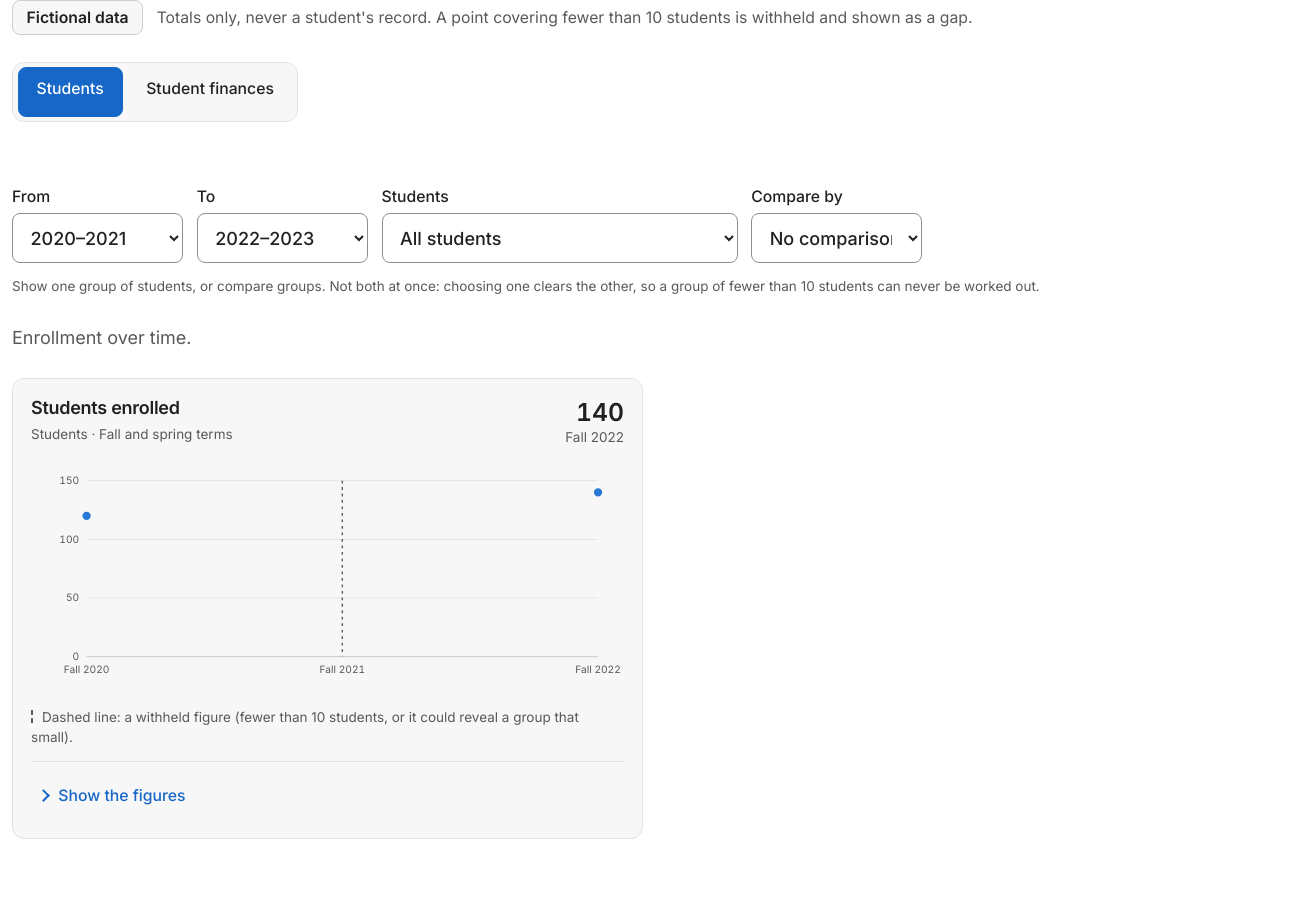
it: DataPage filter bar › splits a chart by the comparison, and a group click narrows to it
This screenshot has width=1292, height=900.
Expected: the picture named "Students enrolled" is shown, [31,461,624,693]
Select "Gender" in the dropdown labelled "Compare by" at [837, 238], box [751,213,922,263]
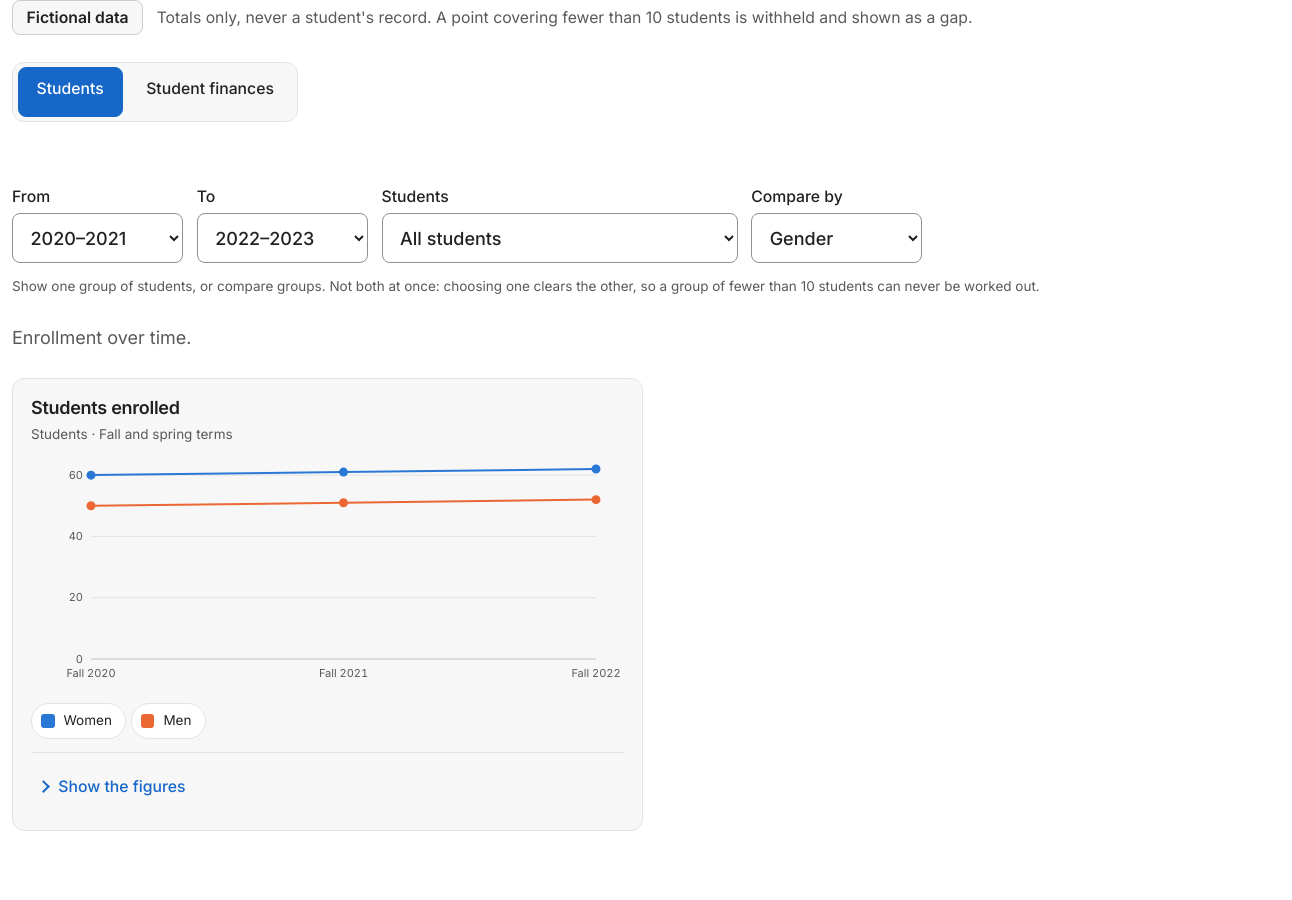
Click the button with aria-label "Men:" at [168, 721], box [131,703,206,739]
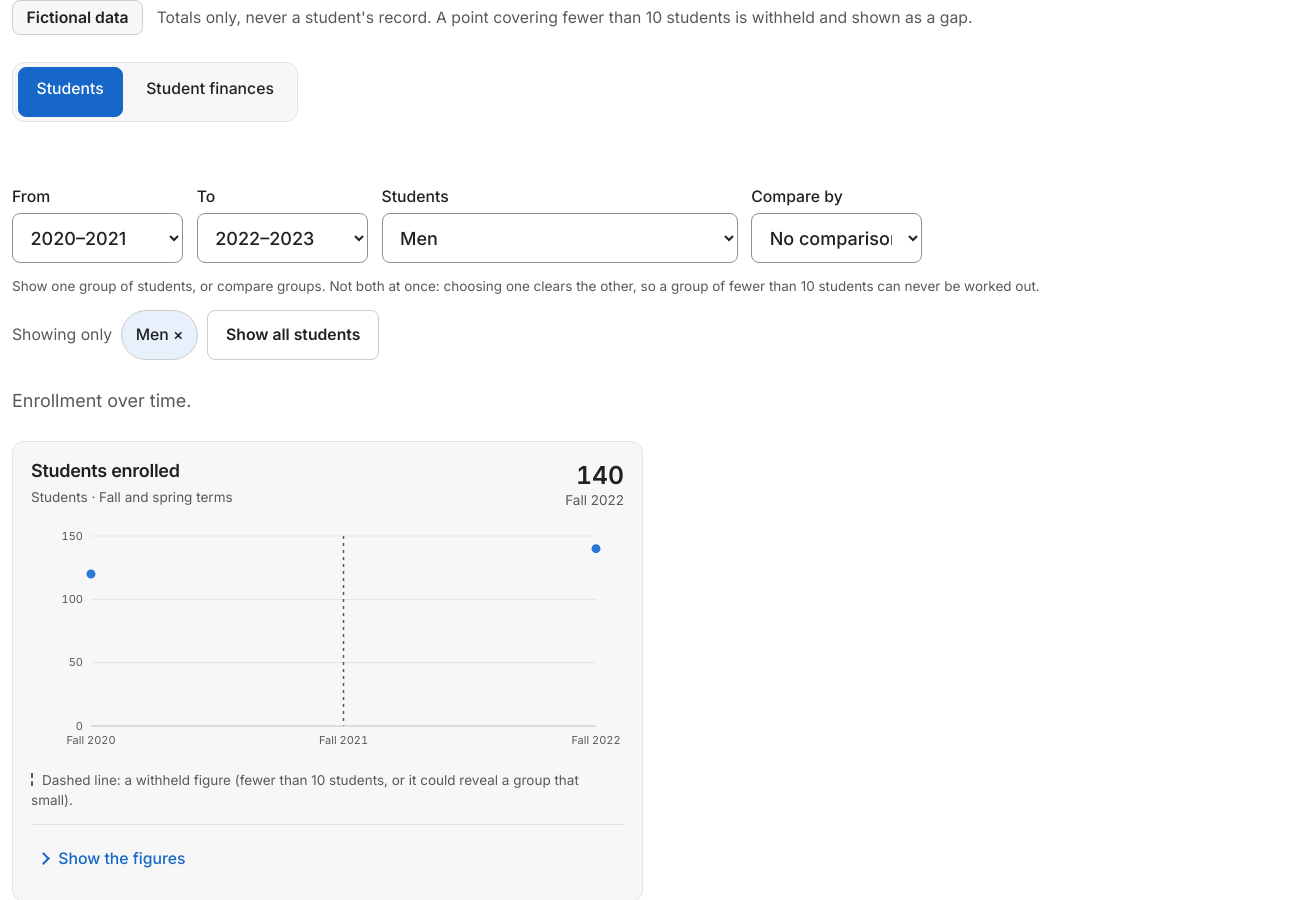
Result: the button with aria-label "Remove Gender: Men" is shown at [121,310,198,360]
